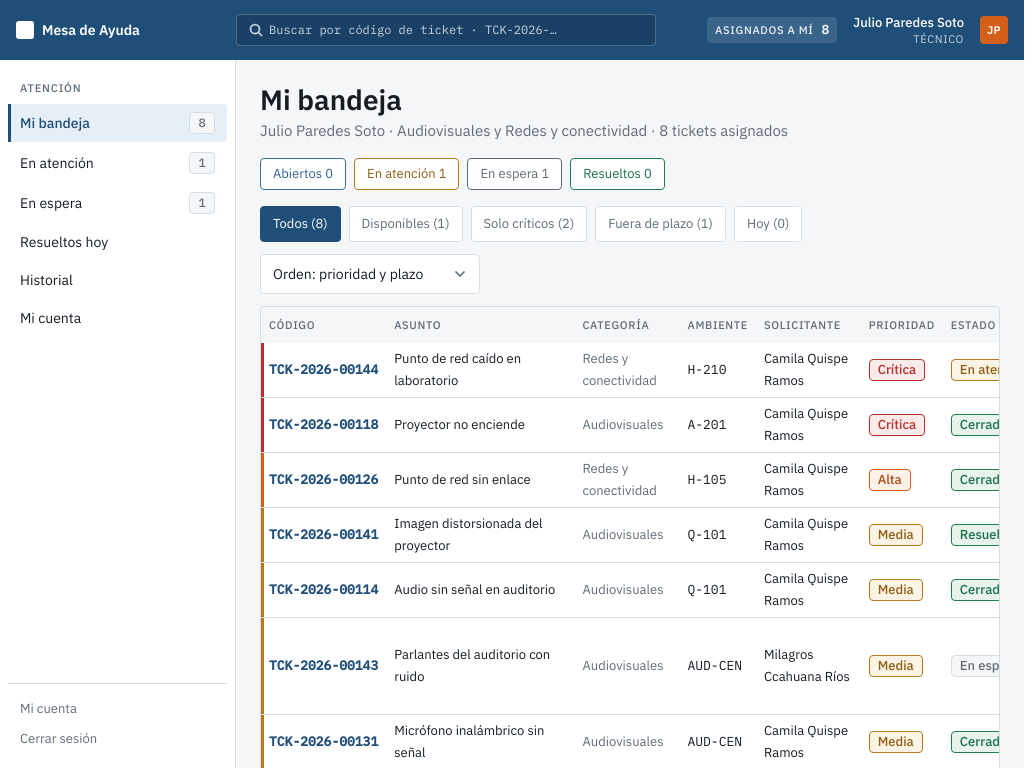
Scenario: AppLayout · cerrar sesión › si no puede cerrar la sesión lo notifica y la mantiene
Expected: the text "Asignados a mí" is shown, [715,22,814,38]
Click the button "Cerrar sesión" at (59, 739), box [20,726,97,752]
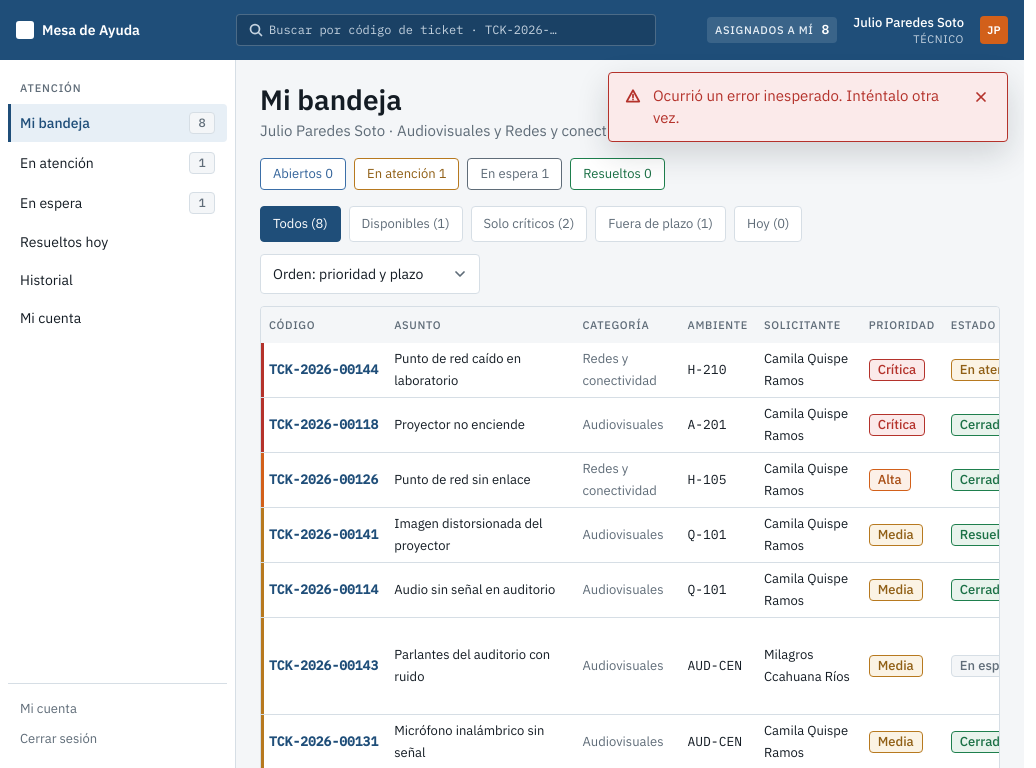
Expected: the heading "Mi bandeja" is shown, [260,81,402,118]
Expected: the text "Ocurrió un error inesperado. Inténtalo otra vez." is shown, [653,85,955,129]
